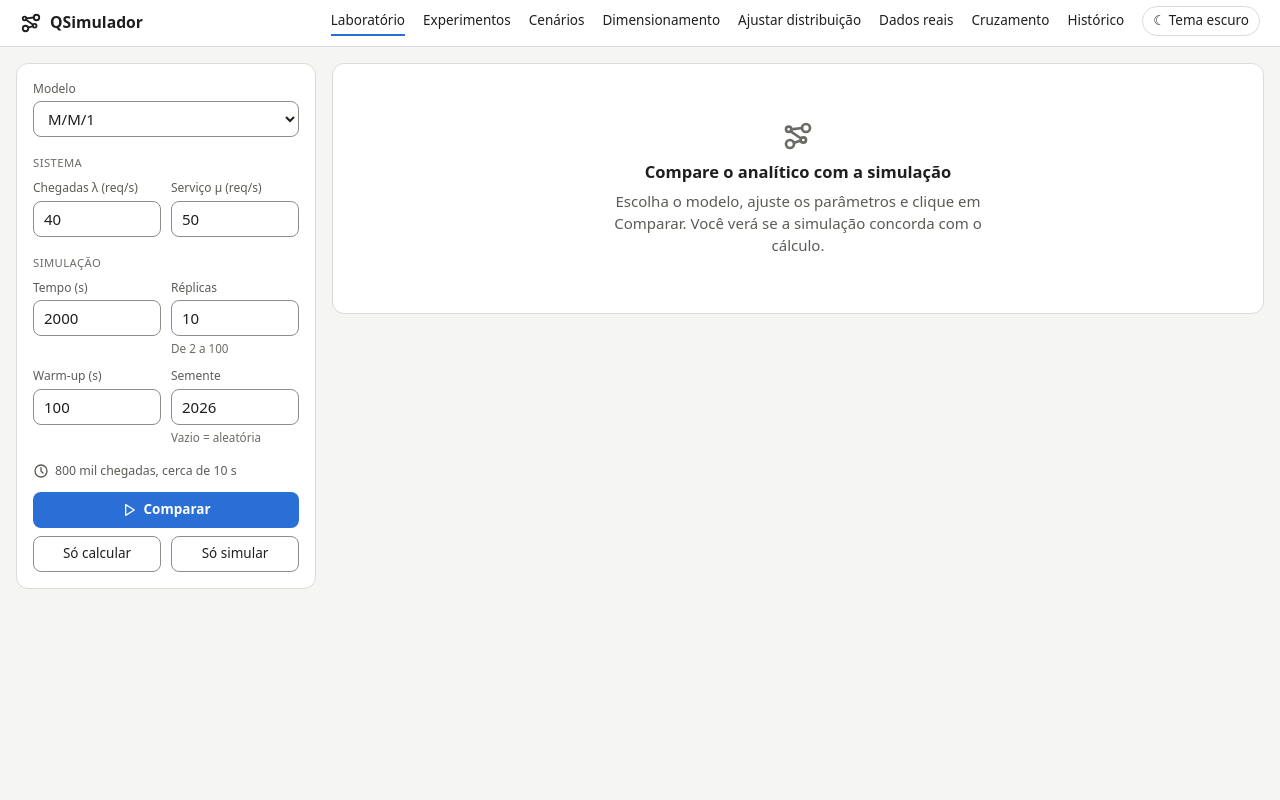
varredura › mostra a curva, a tabela com todas as métricas e o aviso do trecho instável
Select "M/M/1" in the dropdown labelled "Modelo": [166, 119] box [33,101,299,137]
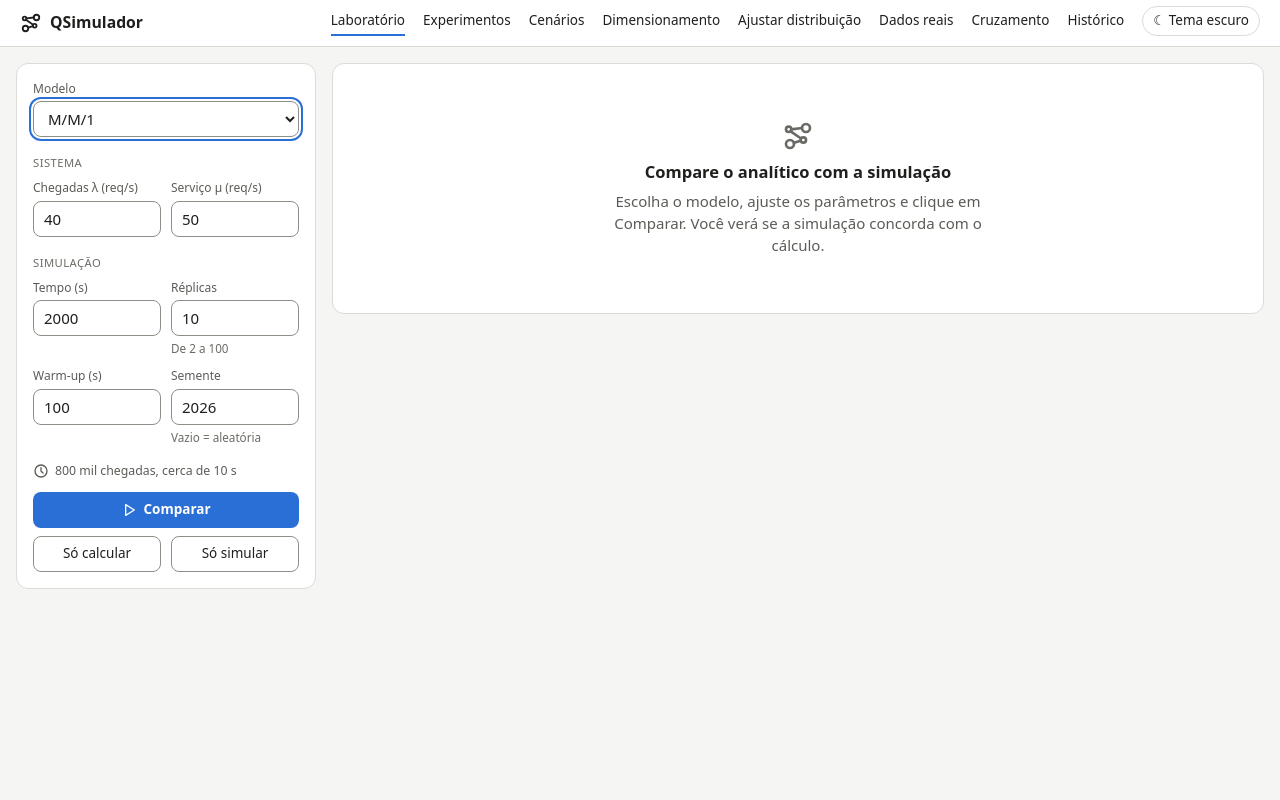
Click the button "Experimentos": [467, 23] box [423,10,511,36]
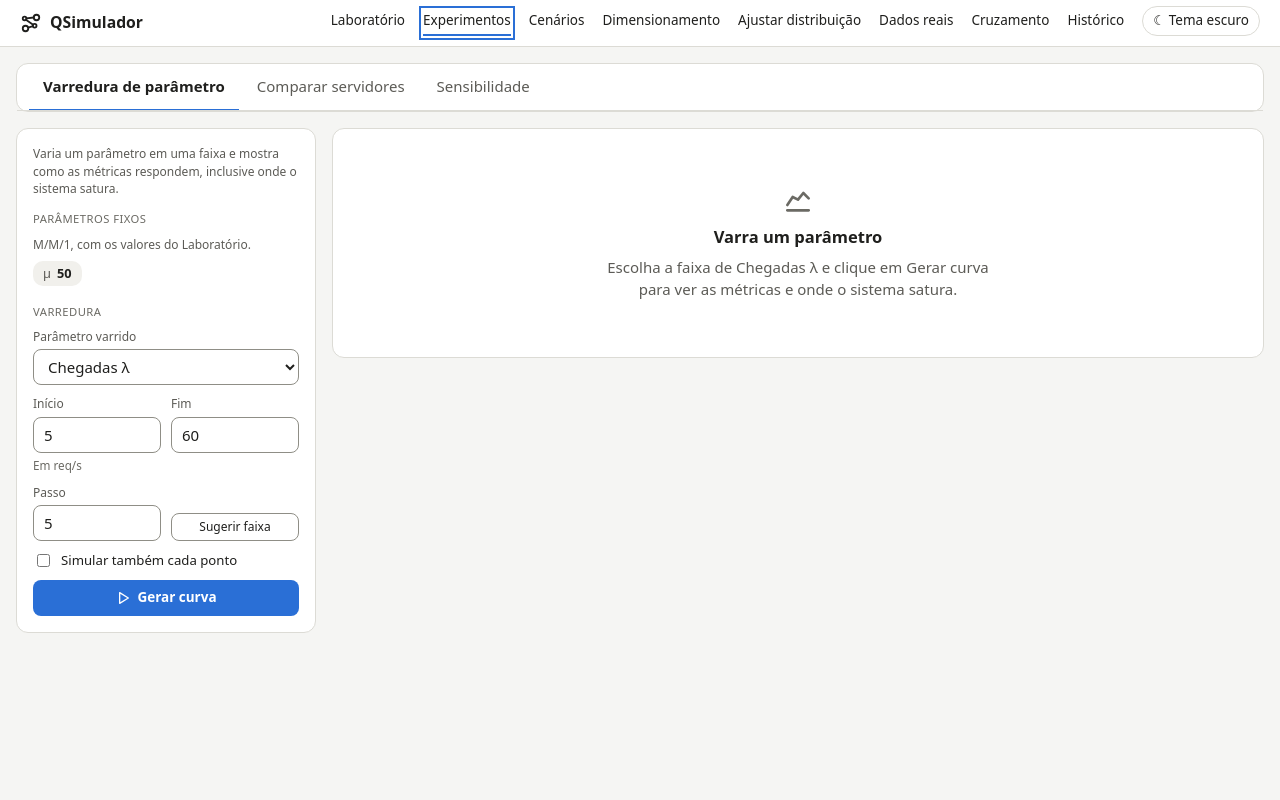
Click the button "Gerar curva": [166, 598] box [33,580,299,616]
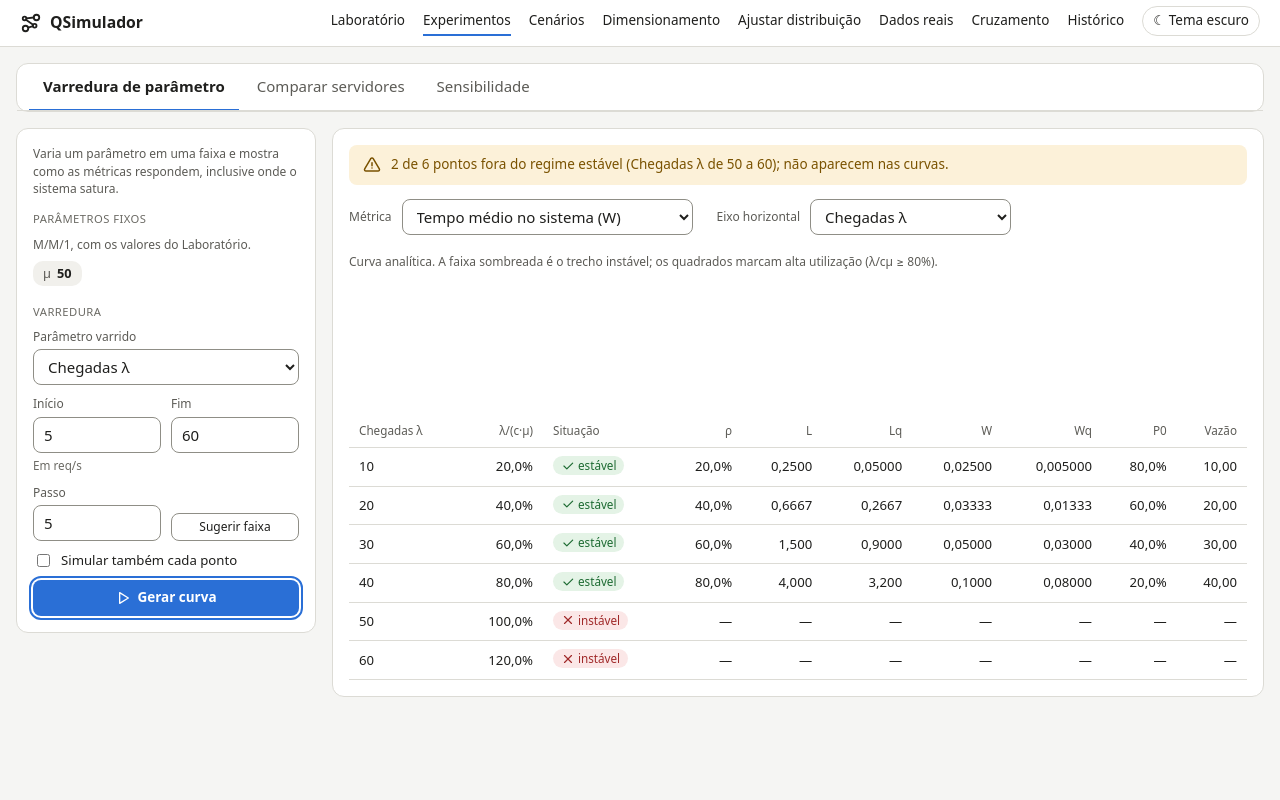
Now the text "2 de 6 pontos fora do regime estável" is shown, box [391,155,948,173]
Now the number of rows is 7
Now the text "instável" is shown 2 times, box [553,611,628,630]; [553,649,628,668]
